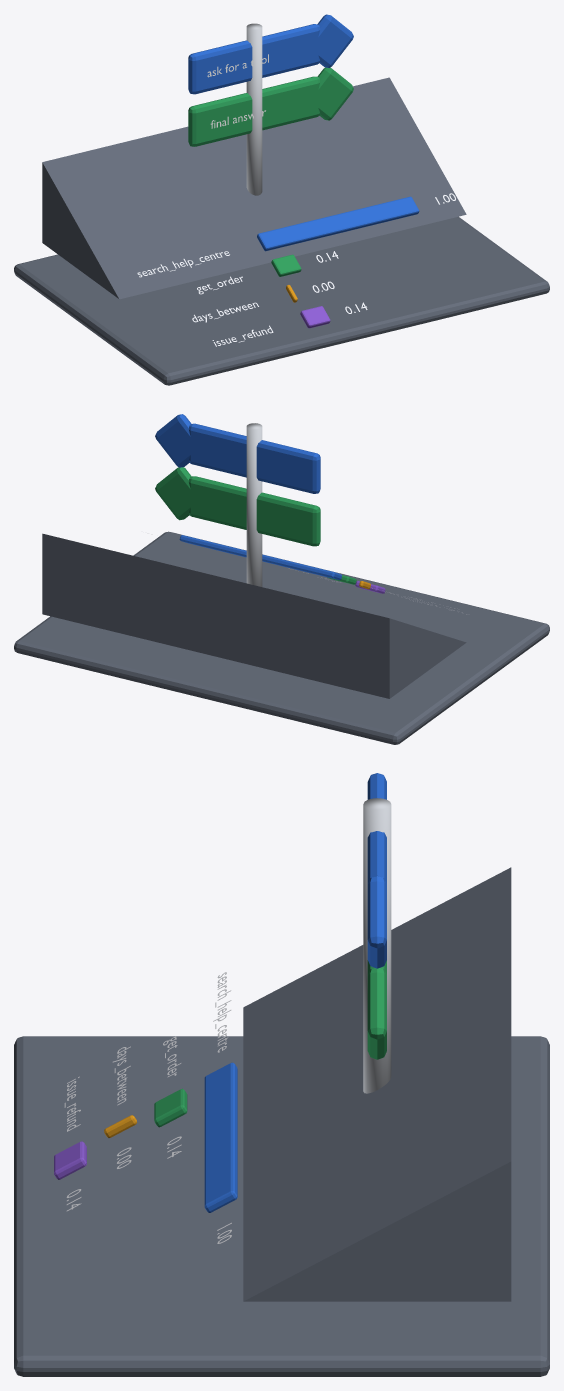
The model's file is decide.glb.
3 views of the same model, one above another, from view 1: azimuth 30°, elevation 25°; view 2: azimuth 150°, elevation 25°; view 3: azimuth 270°, elevation 25° (orthographic). The views are drawn at different scales.
Parts seen in each view (by area): view 1: slope, stand, b.001, b, b0, pole, n0, b3, b1; view 2: stand, slope, b, b.001, pole, b0; view 3: stand, slope, b0, pole, b, n0, b.001, b1, b3.
Boxes of the visible parts, left/top/right/bottom form: slope: left=42, top=77, right=466, bottom=299; stand: left=14, top=216, right=549, bottom=385; b.001: left=188, top=67, right=353, bottom=146; b: left=188, top=14, right=353, bottom=94; b0: left=257, top=196, right=419, bottom=251; pole: left=246, top=23, right=262, bottom=195; n0: left=137, top=193, right=455, bottom=346; b3: left=300, top=306, right=330, bottom=328; b1: left=271, top=254, right=301, bottom=276; stand: left=14, top=531, right=549, bottom=744; slope: left=42, top=533, right=466, bottom=698; b: left=155, top=414, right=320, bottom=493; b.001: left=155, top=467, right=320, bottom=546; pole: left=246, top=423, right=262, bottom=586; b0: left=179, top=535, right=341, bottom=580; stand: left=14, top=1036, right=549, bottom=1376; slope: left=243, top=867, right=511, bottom=1301; b0: left=204, top=1062, right=237, bottom=1212; pole: left=363, top=798, right=391, bottom=1093; b: left=367, top=773, right=386, bottom=968; n0: left=64, top=972, right=231, bottom=1243; b.001: left=367, top=960, right=386, bottom=1059; b1: left=154, top=1088, right=187, bottom=1127; b3: left=54, top=1141, right=86, bottom=1179.
Size of the model in its own units: 1 by 0.5894 by 0.6931.
